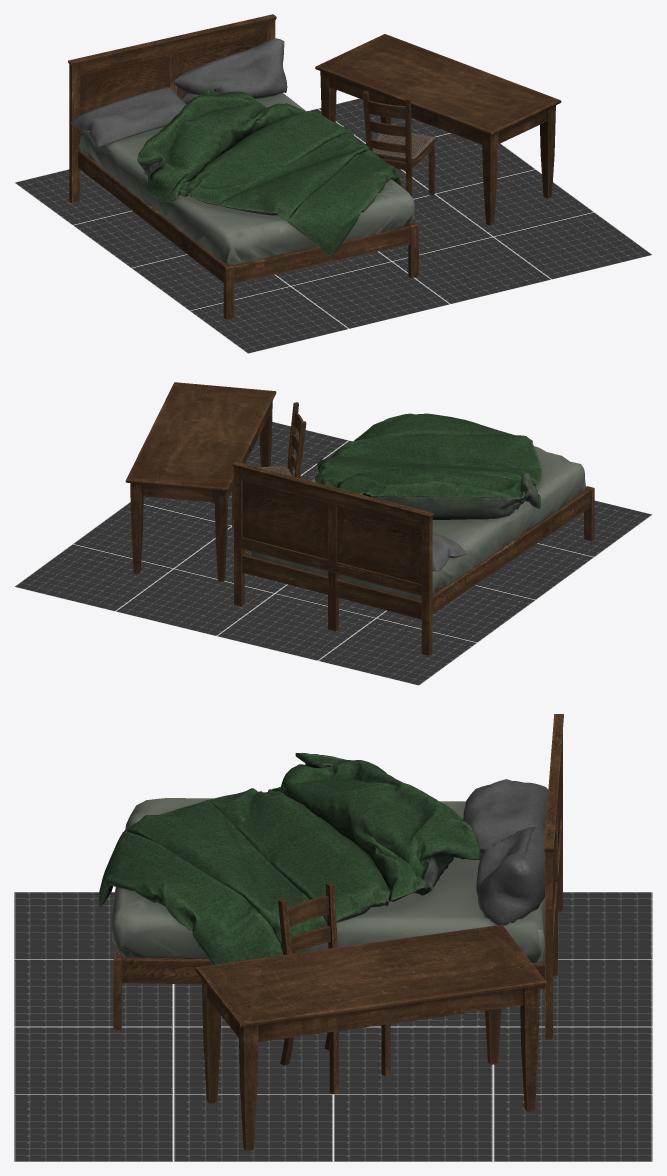
Rendered from bedroom_furniture_set_-_game_ready.glb.
3 views of the same model, one above another, from view 1: azimuth 30°, elevation 25°; view 2: azimuth 150°, elevation 25°; view 3: azimuth 270°, elevation 25° (orthographic). The views are drawn at different scales.
Parts seen in each view (by area): view 1: SM_Bed_01, Plane; view 2: SM_Bed_01, Plane; view 3: SM_Bed_01, Plane.
Boxes of the visible parts, x1,y1,x2,y2 form: SM_Bed_01: (68, 14, 561, 319); Plane: (14, 98, 652, 353); SM_Bed_01: (125, 382, 594, 655); Plane: (14, 421, 652, 685); SM_Bed_01: (99, 714, 563, 1151); Plane: (14, 892, 652, 1161).
Bounding box in the file's own units: 4 × 1.33 × 4.
2 materials, 2 textured.
